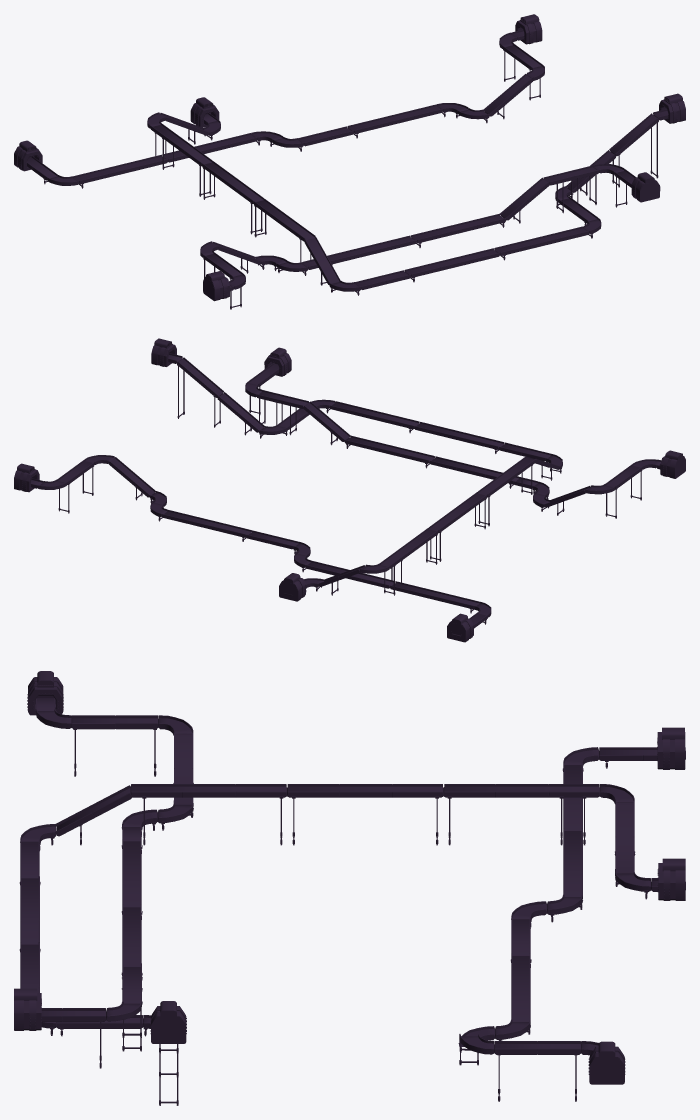
The model's file is Conveyor_Belts.fbx.
The picture shows the model from 3 angles, top to bottom: view 1: azimuth 30°, elevation 25°; view 2: azimuth 150°, elevation 25°; view 3: azimuth 270°, elevation 25°; orthographic projection. The views are drawn at different scales.
Parts seen in each view (by area): view 1: Box312; view 2: Box312; view 3: Box312.
Part boxes in pixels (x1,y1,x2,y2): Box312: [14, 14, 685, 309]; Box312: [14, 338, 685, 642]; Box312: [14, 671, 685, 1105].
Bounding box in the file's own units: 5171 × 724 × 3867.
